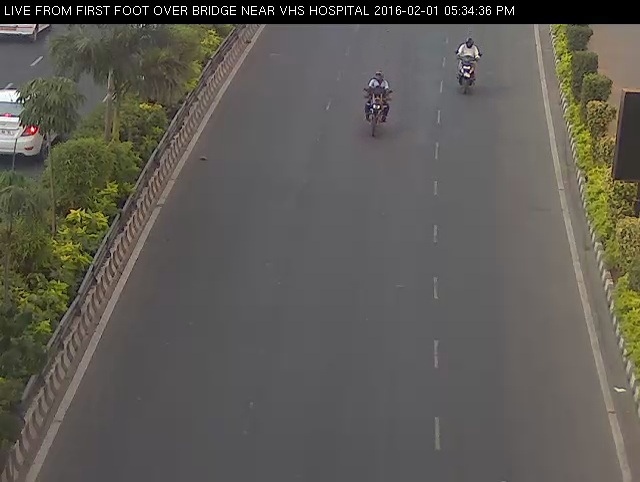Person: (358, 61, 395, 149), (447, 33, 490, 105)
